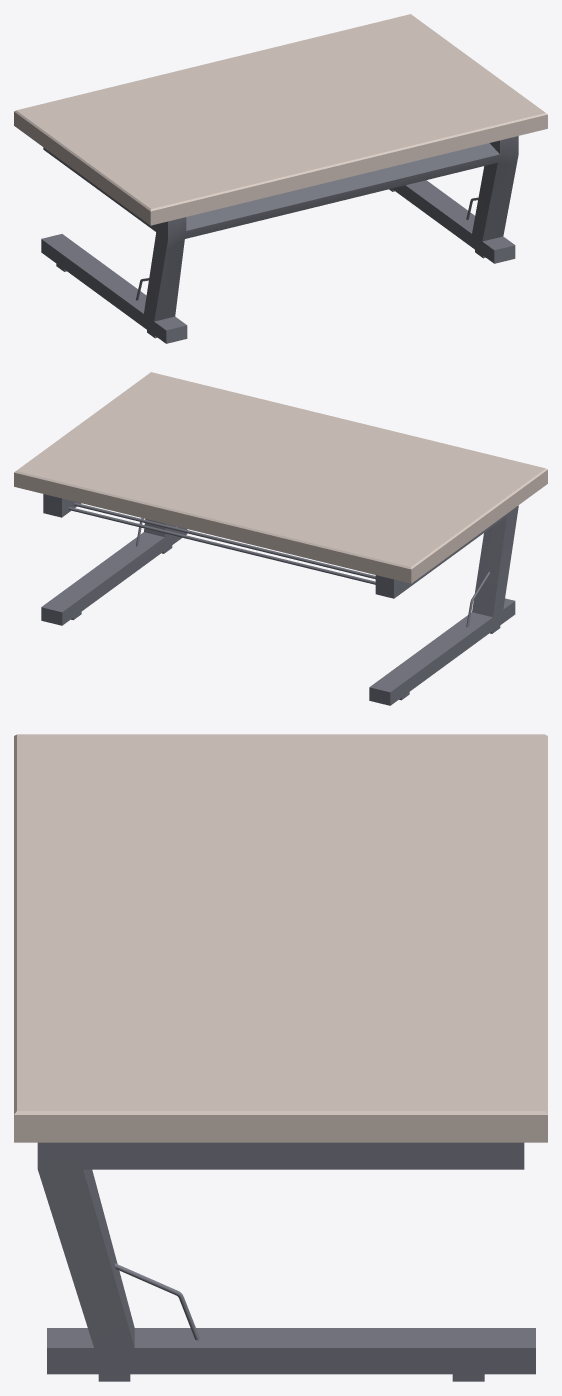
Rendered from banco.fbx.
3 renders of one model, top to bottom at view 1: azimuth 30°, elevation 25°; view 2: azimuth 150°, elevation 25°; view 3: azimuth 270°, elevation 25°, orthographic. The views are drawn at different scales.
Visible parts, largest first — view 1: Cube; view 2: Cube; view 3: Cube.
Boxes of the visible parts, x1,y1,x2,y2 form: Cube: (14, 14, 547, 343); Cube: (14, 372, 547, 705); Cube: (14, 734, 547, 1381).
Size of the model in its own units: 80 by 28.95 by 47.63.
